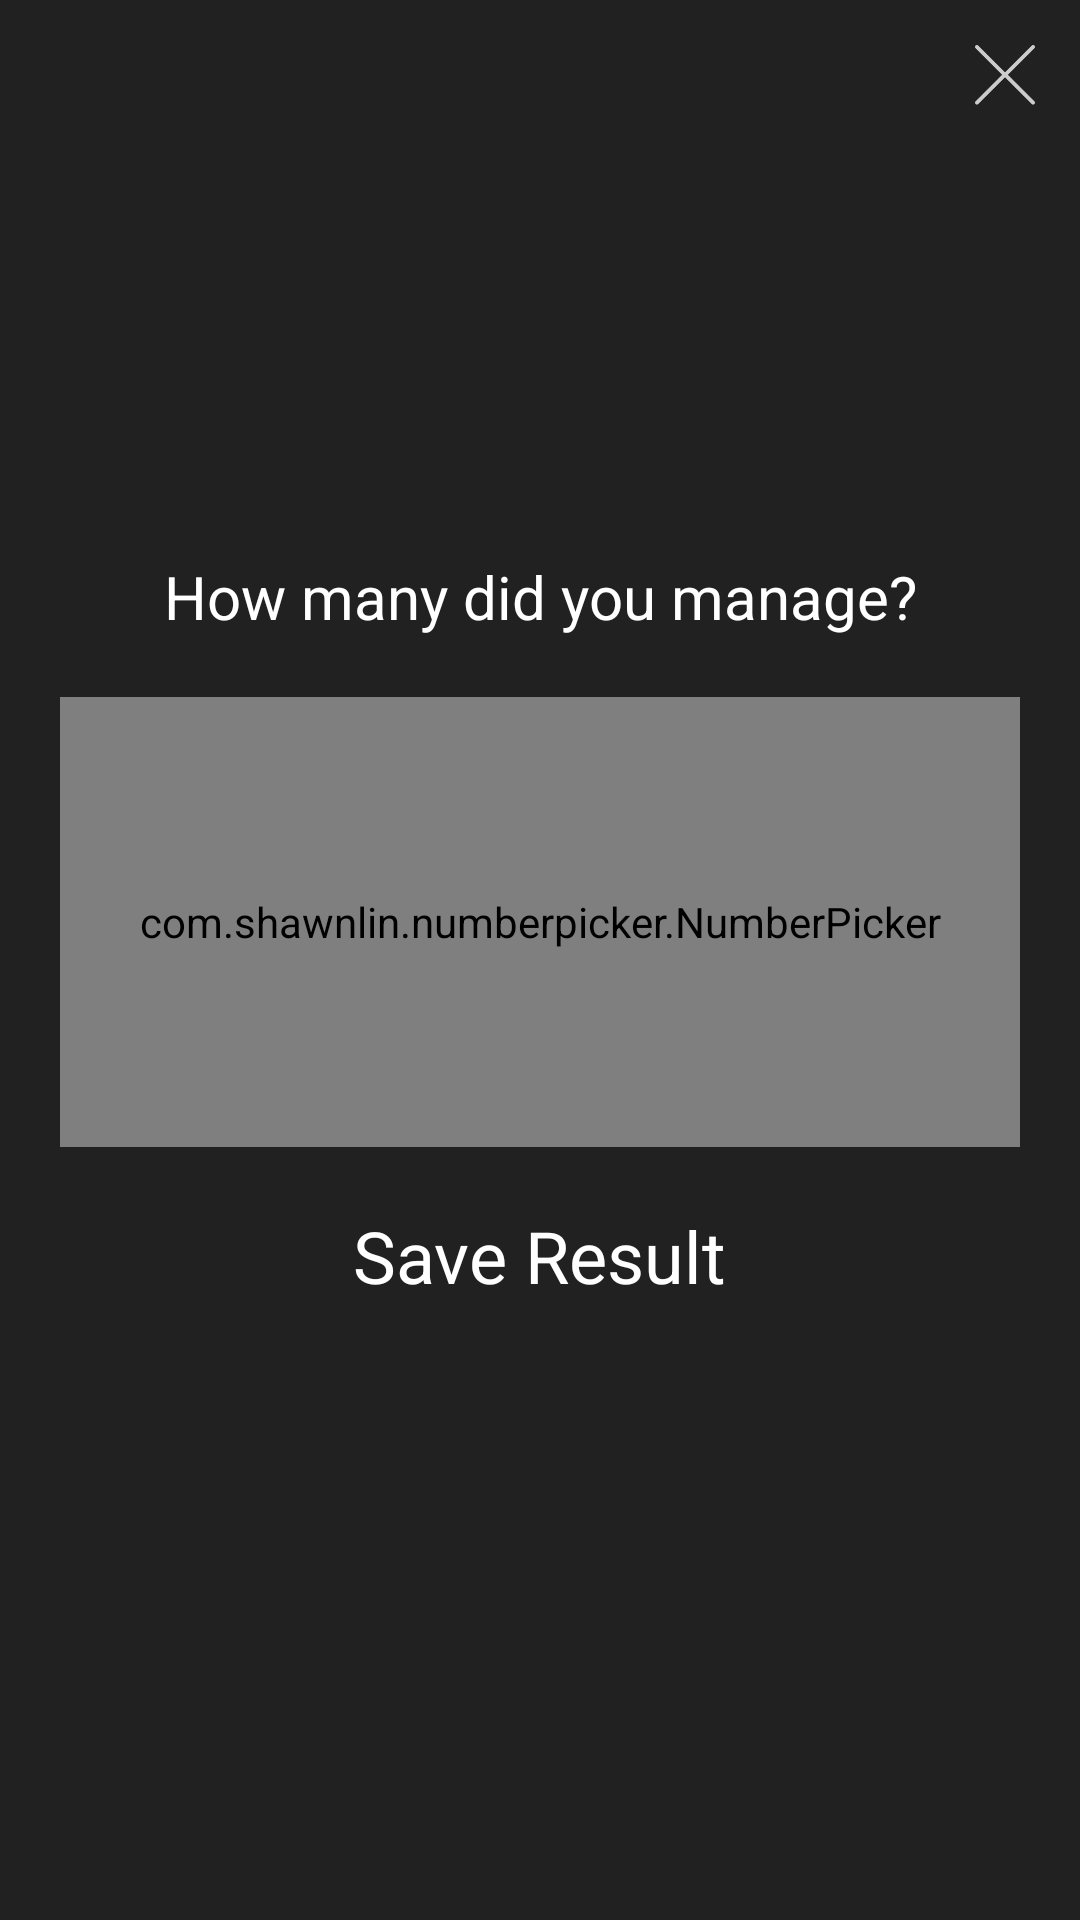

Named icons in this screenshot (1080*1920) and their bounding boxes, (x1, y1, x2, y2):
close: (975, 45, 1035, 105)
